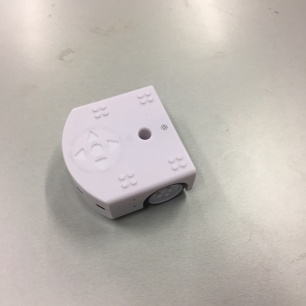thymio: (52, 81, 199, 222)
